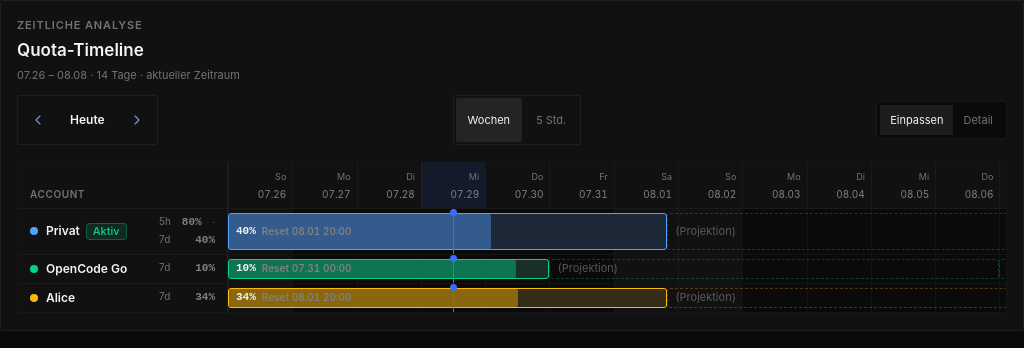
Scenario: QuotaTimeline › navigiert zwischen Zeiträumen und springt zurück zu heute
Expected: the button "Heute" is disabled, top-left (58, 98), bottom-right (117, 142)
Click the button named "Vorheriger Zeitraum" at (38, 120), box top-left (20, 98), bottom-right (56, 142)
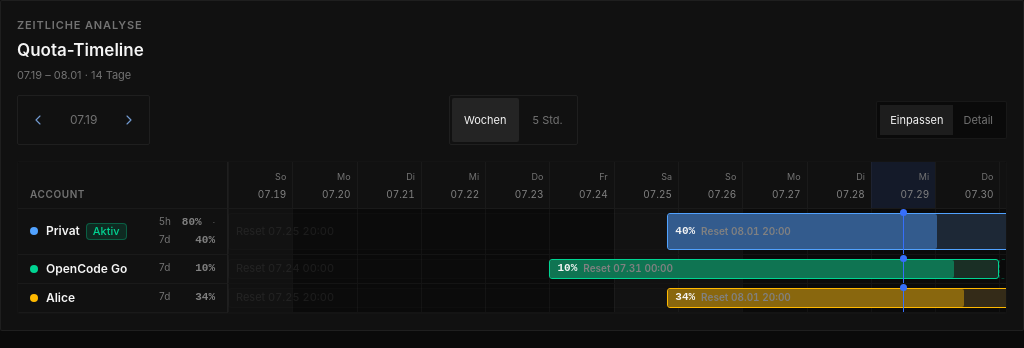
Expected: the button named "Heute" is enabled
Click the button named "Heute" at (84, 120), box top-left (58, 98), bottom-right (109, 142)
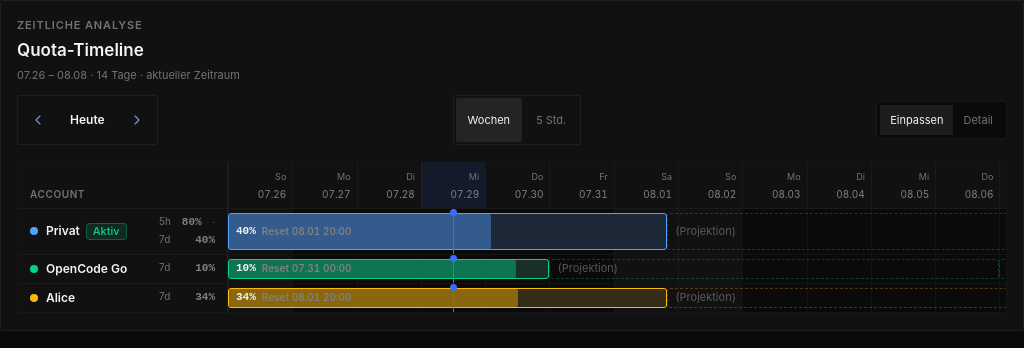
Expected: the button "Heute" is disabled, top-left (58, 98), bottom-right (117, 142)
